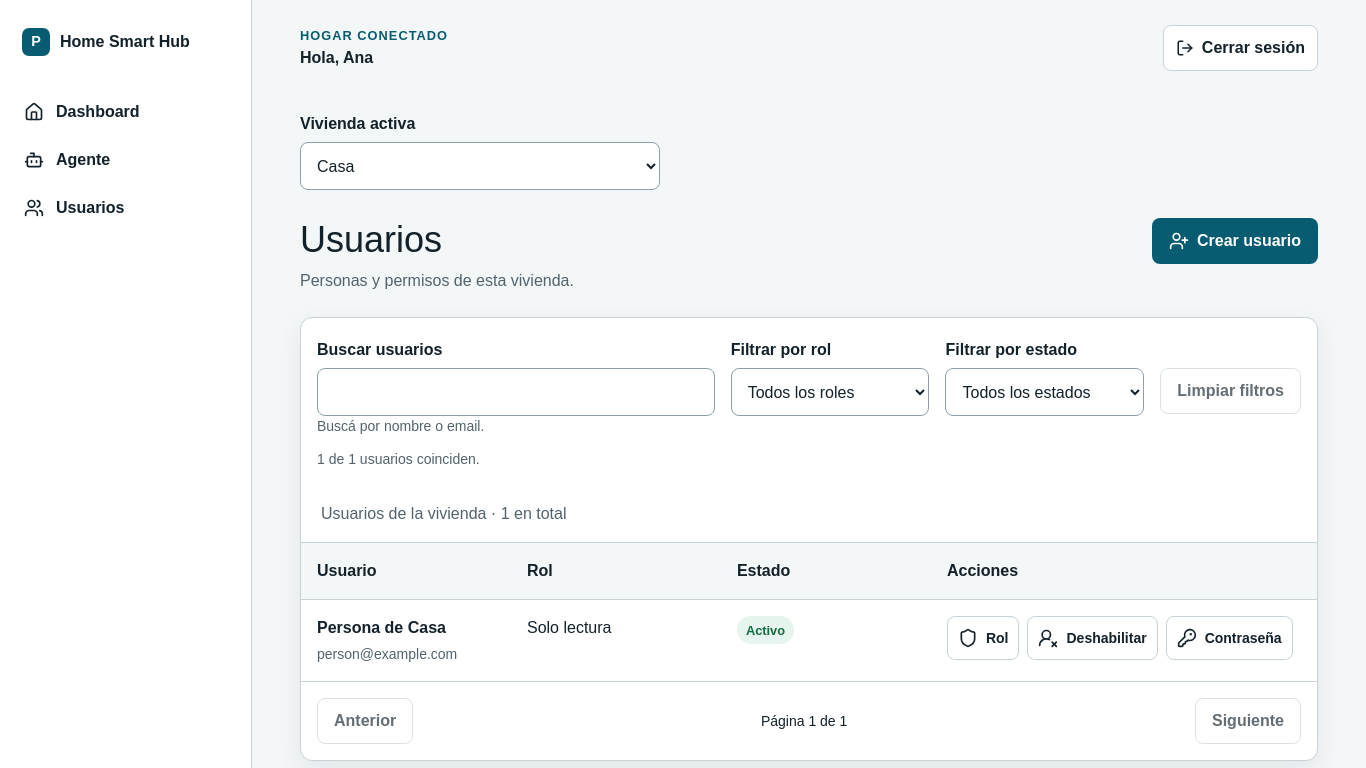
Test: scopes navigation and actions to the selected home
Expected: the text "Persona de Casa" is shown, [317, 619, 446, 636]
Select "Oficina" in the dropdown labelled "Vivienda activa" at (480, 166), box [300, 142, 660, 190]
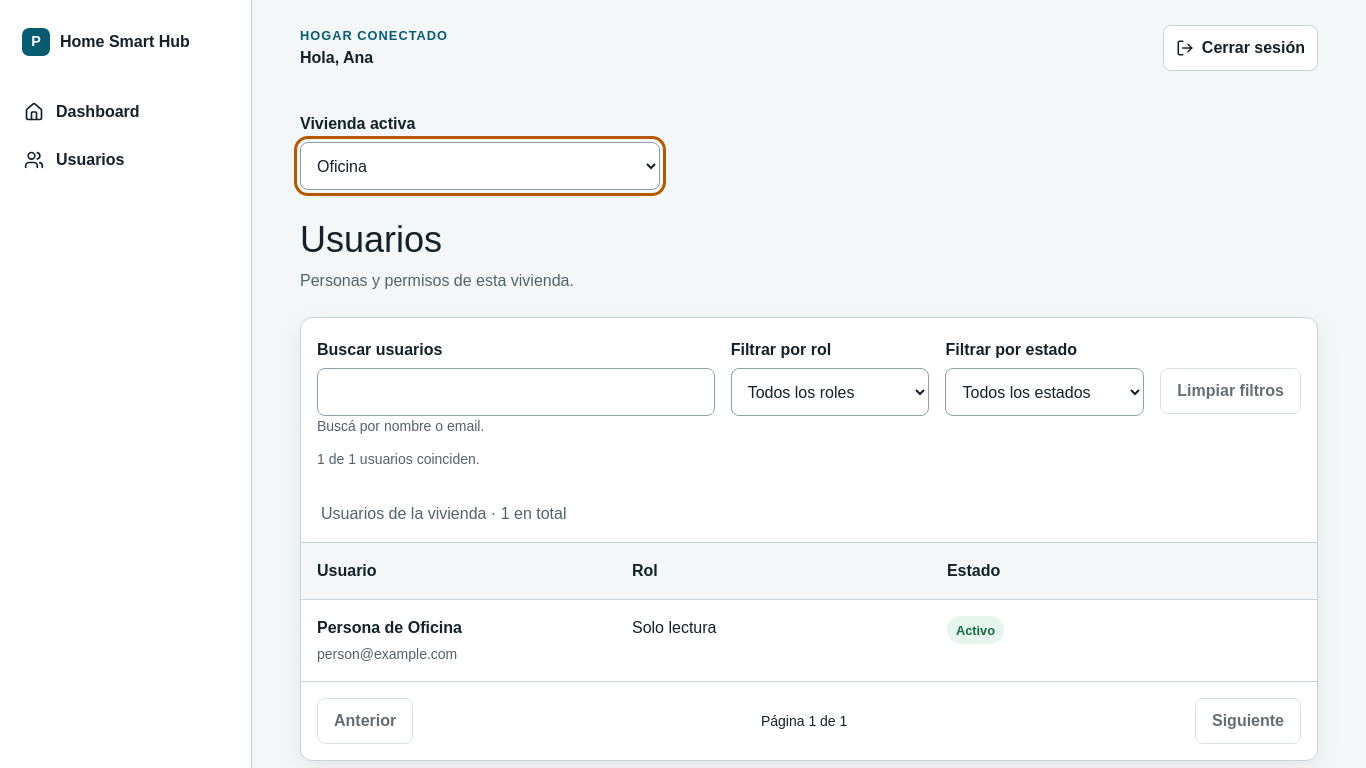
Expected: the text "Persona de Oficina" is shown, [317, 619, 462, 636]
Expected: the text "Persona de Casa" is gone
Expected: the link "Agente" is gone
